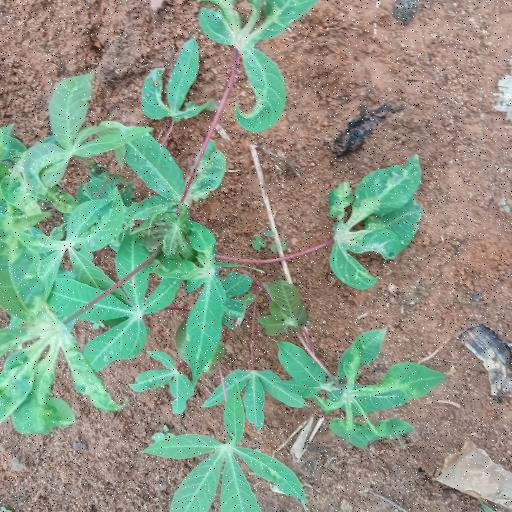Cassava_Mosaic: (279, 330, 449, 442), (0, 282, 111, 438), (154, 401, 312, 507), (0, 114, 94, 276), (324, 162, 434, 286), (195, 0, 300, 123)
